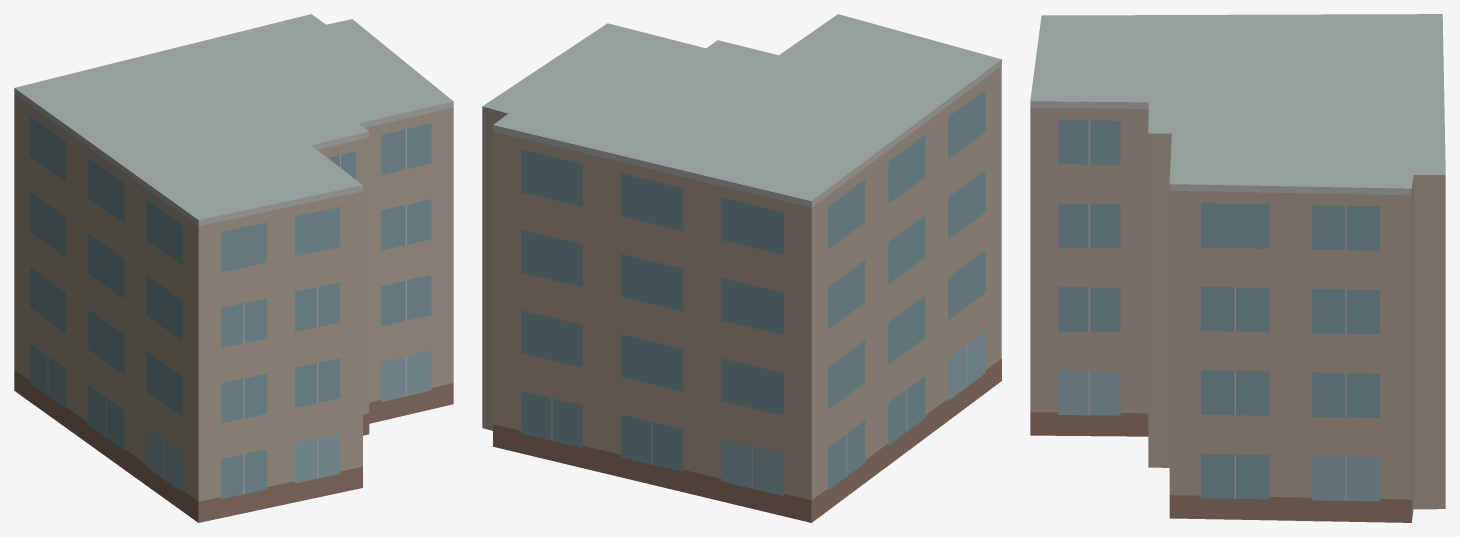
File: survey-upis-32989260.glb
3 views of the same model, side by side, from view 1: azimuth 30°, elevation 25°; view 2: azimuth 150°, elevation 25°; view 3: azimuth 270°, elevation 25° (orthographic). The views are drawn at different scales.
Visible parts, largest first — view 1: survey-upis-32989260.tmp; view 2: survey-upis-32989260.tmp; view 3: survey-upis-32989260.tmp.
Boxes of the visible parts, x1,y1,x2,y2 form: survey-upis-32989260.tmp: (14,14,453,522); survey-upis-32989260.tmp: (482,14,1001,522); survey-upis-32989260.tmp: (1030,14,1445,522).
Bounding box in the file's own units: 13.68 × 12.2 × 13.76.
